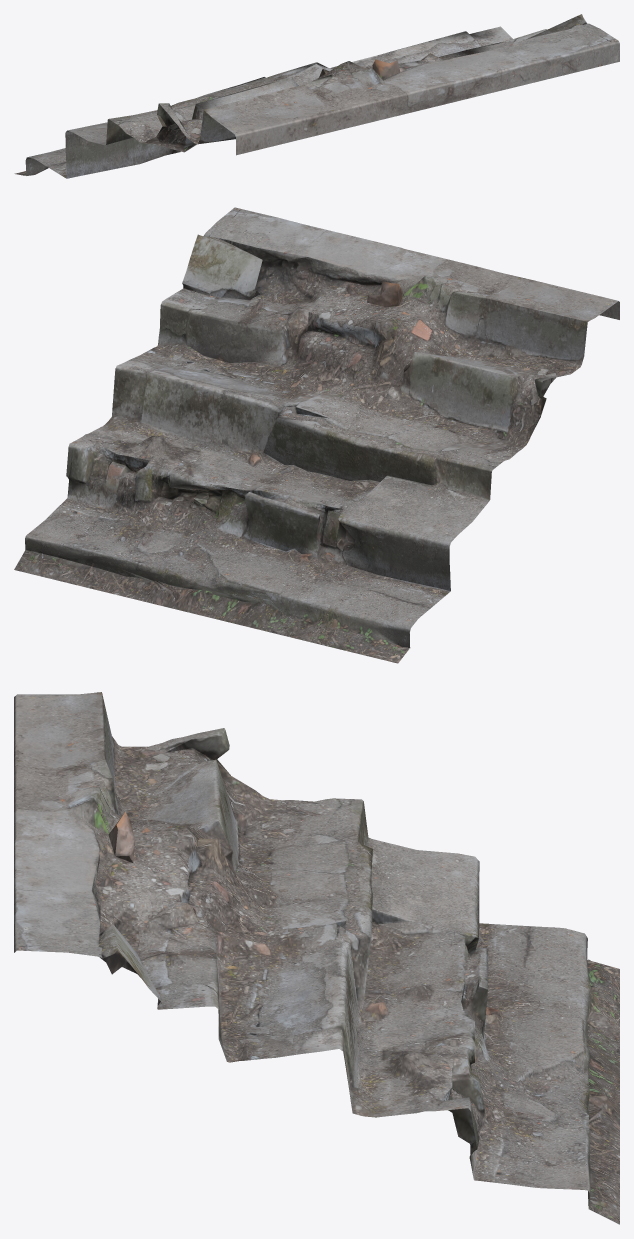
Rendered from SM_Stairs_01_08.fbx.
3 renders of one model, top to bottom at view 1: azimuth 30°, elevation 25°; view 2: azimuth 150°, elevation 25°; view 3: azimuth 270°, elevation 25°, orthographic. The views are drawn at different scales.
Visible parts, largest first — view 1: sm_Stairs_01_08_LOD0; view 2: sm_Stairs_01_08_LOD0; view 3: sm_Stairs_01_08_LOD0.
Boxes of the visible parts, box(x1,y1,x2,y2) form: sm_Stairs_01_08_LOD0: box(14, 14, 619, 178); sm_Stairs_01_08_LOD0: box(14, 207, 619, 663); sm_Stairs_01_08_LOD0: box(14, 692, 619, 1224).
Size of the model in its own units: 200 by 200 by 103.
